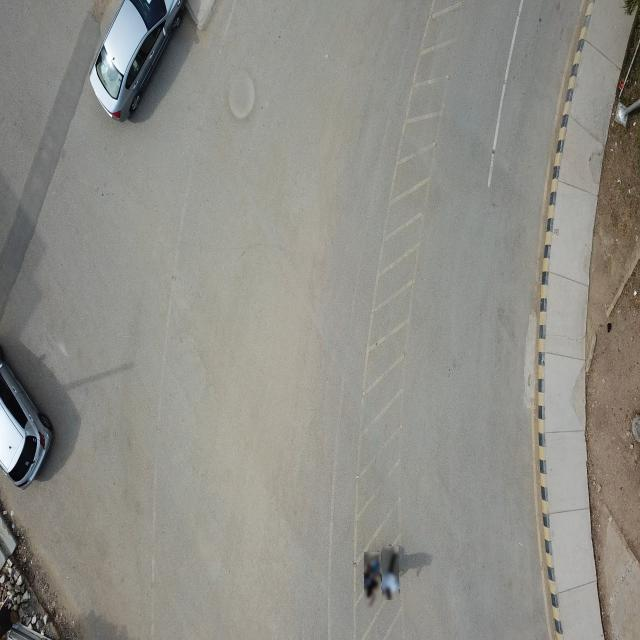Manusia: (364, 552, 382, 609), (382, 546, 400, 601)
